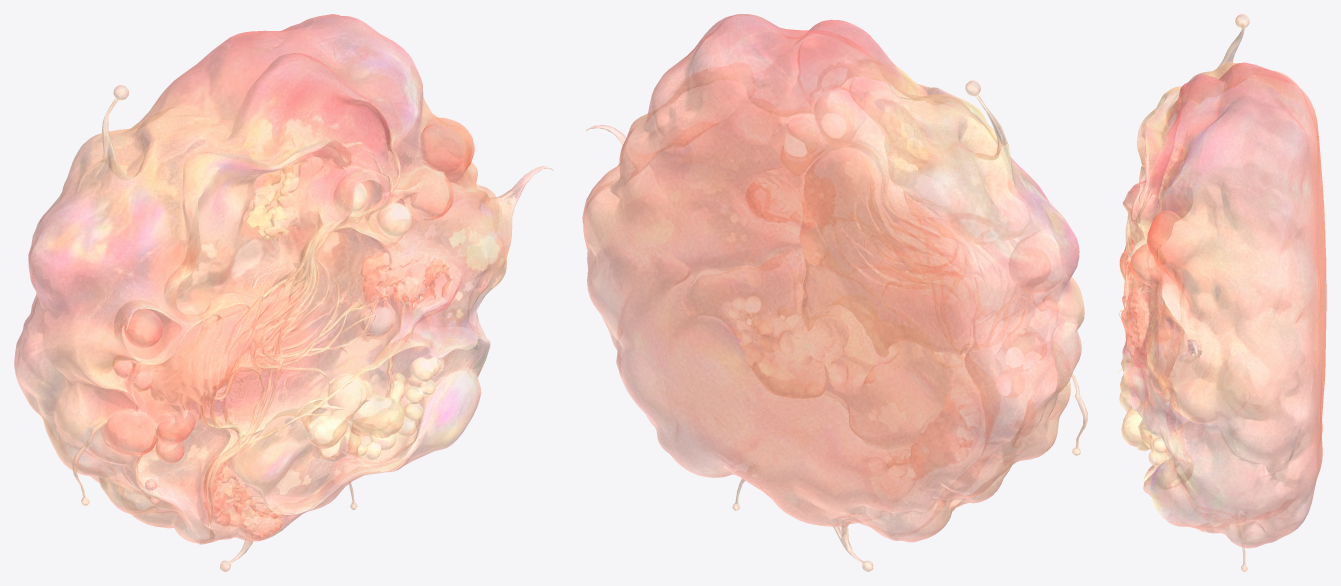
File: cell10.glb
3 views of the same model, side by side, from view 1: azimuth 30°, elevation 25°; view 2: azimuth 150°, elevation 25°; view 3: azimuth 270°, elevation 25° (orthographic). The views are drawn at different scales.
Visible parts, largest first — view 1: Mesh_0; view 2: Mesh_0; view 3: Mesh_0.
Boxes of the visible parts, <box> form: Mesh_0: <box>14,14,553,571</box>; Mesh_0: <box>582,14,1087,571</box>; Mesh_0: <box>1116,14,1326,571</box>.
Size of the model in its own units: 1.87 by 1.84 by 0.718.
Materials: 1 (1 with a texture image).
